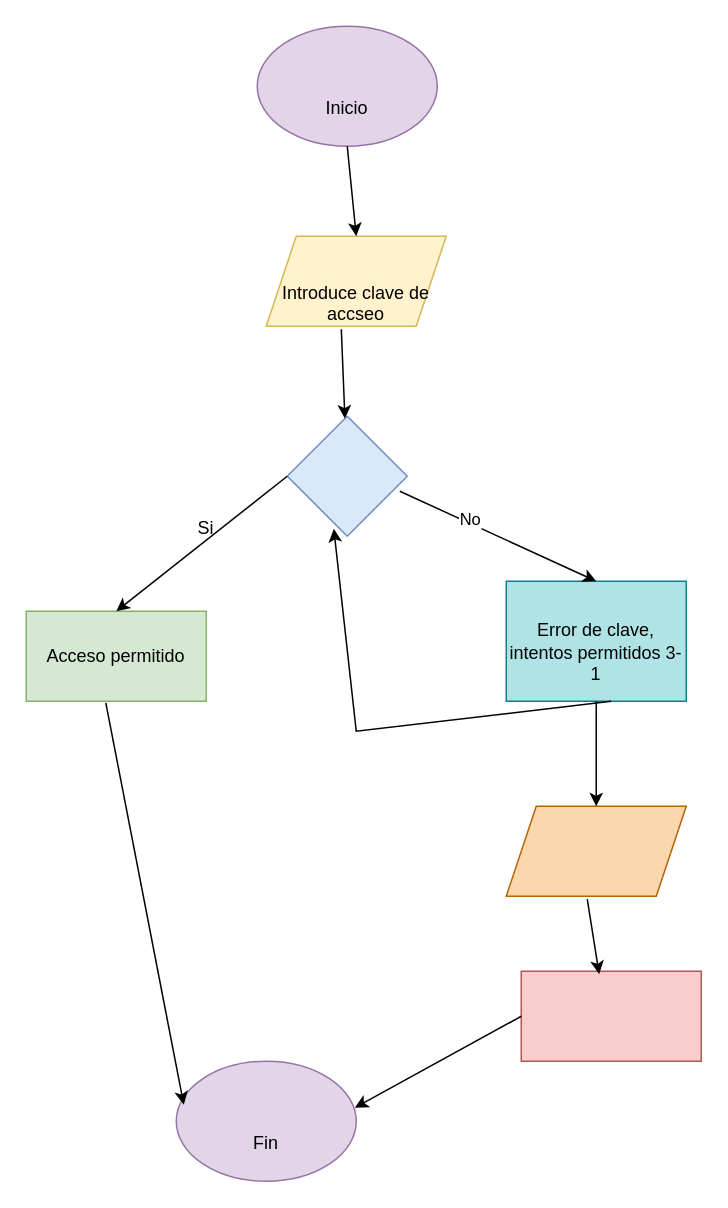
Image size: 728x1208. Some labels were removed from this diagram. Each missing label, with the box of its shape:
Acceso bloqueado: (520, 970, 701, 1061)
Intentos = 0: (505, 805, 686, 896)
La clave es 2468: (286, 415, 407, 536)
